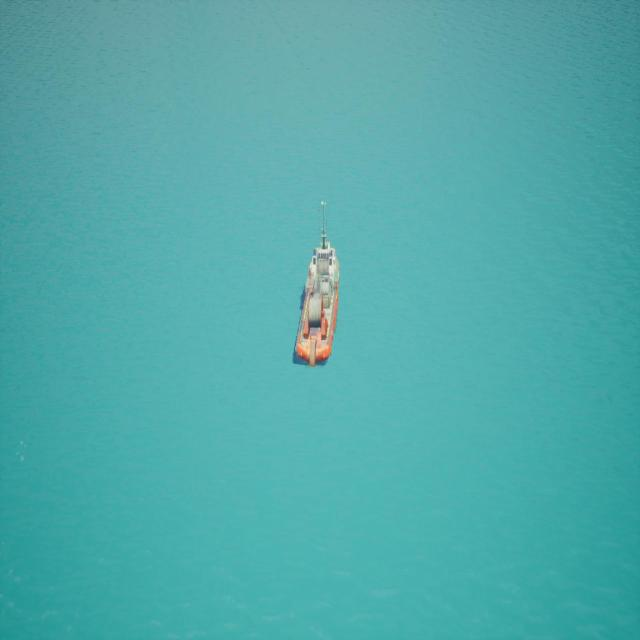tug boat: (293, 193, 344, 366)
